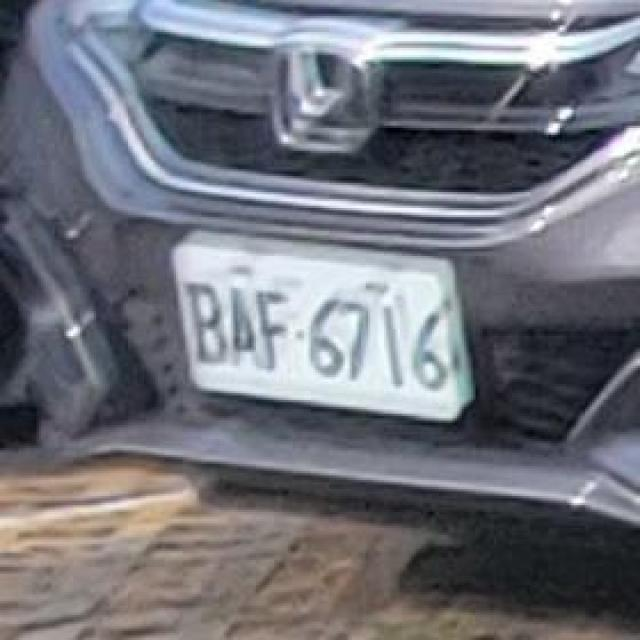W: (151, 212, 503, 443)
